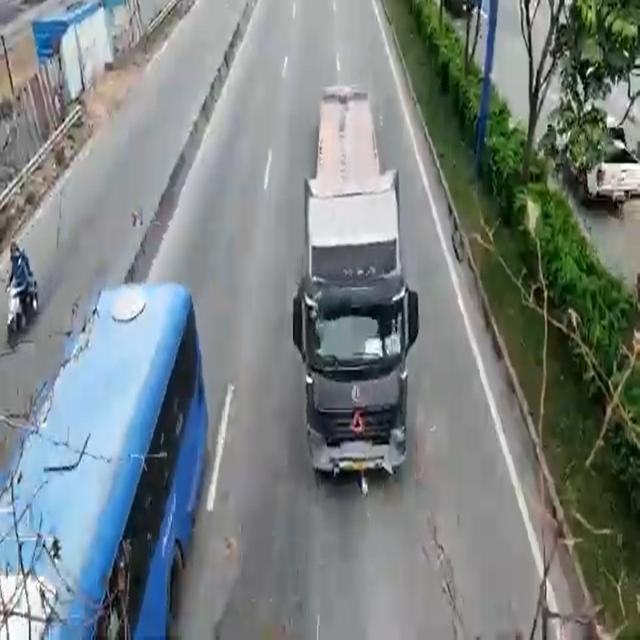bus: (36, 287, 189, 640)
truck: (315, 86, 407, 476)
